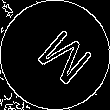M_SW: (21, 21, 89, 89)
